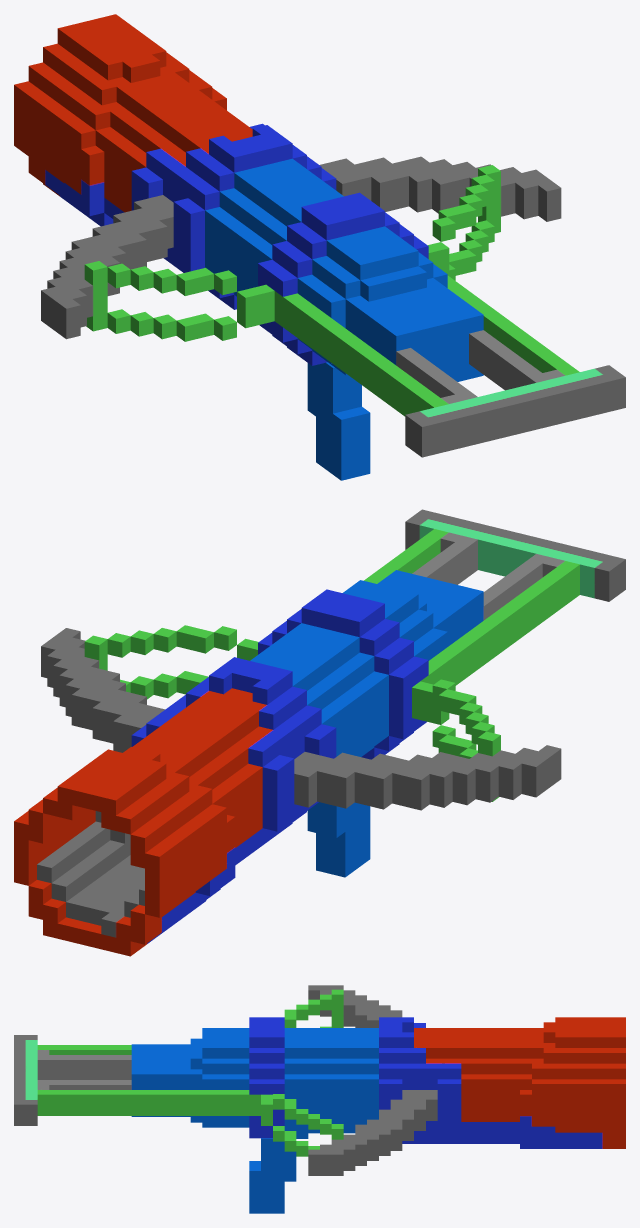
File: aqua_force_crossbow_2.fbx
3 views of the same model, one above another, from view 1: azimuth 30°, elevation 25°; view 2: azimuth 150°, elevation 25°; view 3: azimuth 270°, elevation 25° (orthographic). The views are drawn at different scales.
Visible parts, largest first — view 1: aqua_force_crossbow_2; view 2: aqua_force_crossbow_2; view 3: aqua_force_crossbow_2.
Part boxes in pixels (x1=…): aqua_force_crossbow_2: x1=14, y1=14, x2=625, y2=480; aqua_force_crossbow_2: x1=14, y1=509, x2=625, y2=956; aqua_force_crossbow_2: x1=14, y1=985, x2=625, y2=1213.
Bounding box in the file's own units: 34 × 17 × 52.
